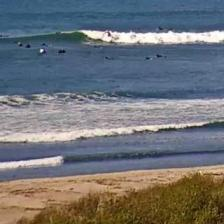surfer: (156, 54, 168, 58), (59, 49, 67, 54), (39, 49, 46, 54), (144, 57, 152, 61), (104, 57, 112, 61), (157, 26, 163, 31), (106, 31, 112, 36), (18, 43, 23, 48), (42, 43, 48, 47), (26, 44, 32, 48), (93, 45, 99, 49)
